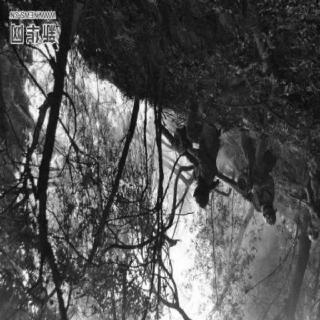Fire: (1, 6, 163, 318)
